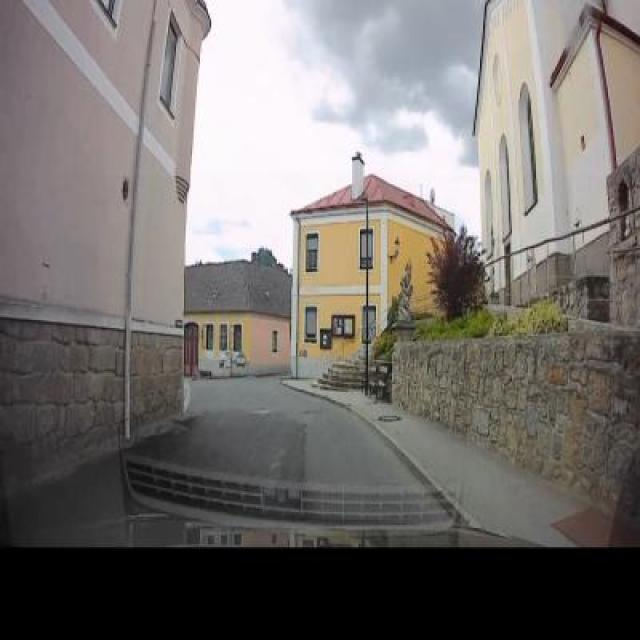clear-road: (132, 375, 418, 485)
